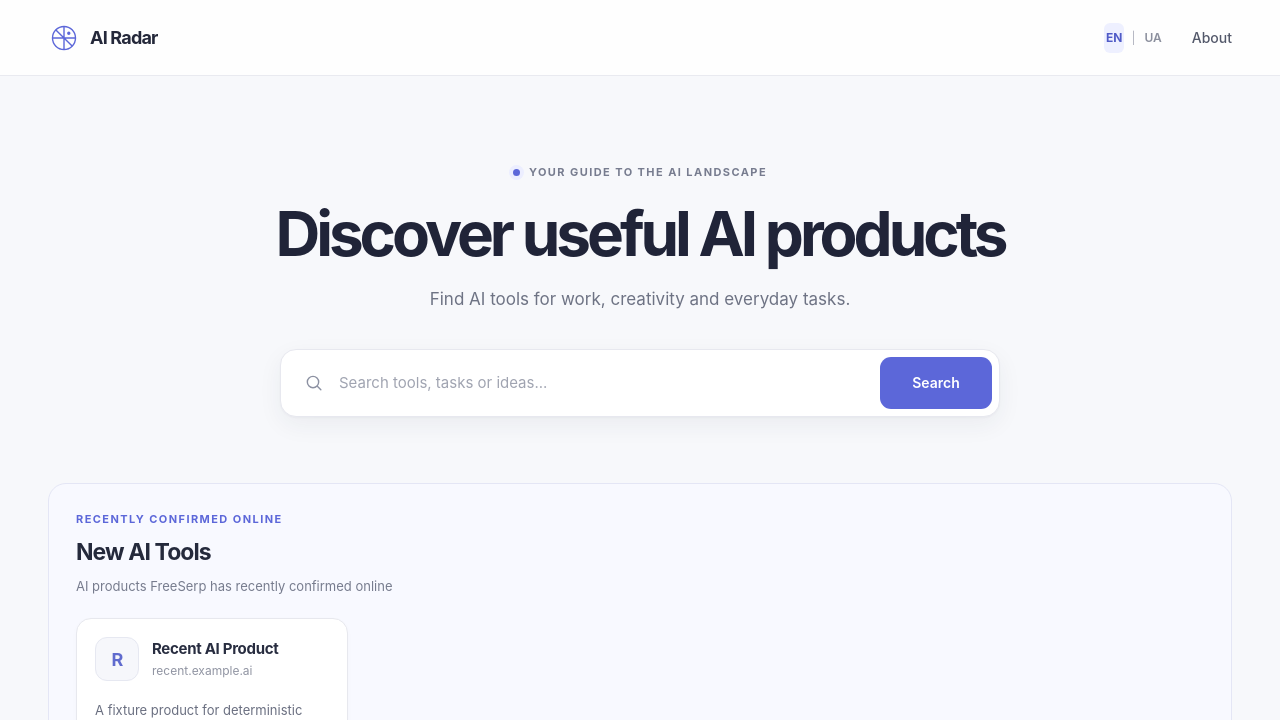
Test: AI Radar catalog › switches the interface between Ukrainian and English
The image size is (1280, 720).
Expected: the element with test id "language-selector" is shown, [1104,23,1164,53]
Click the button with test id "language-uk" at (1153, 38), box [1142,23,1163,53]
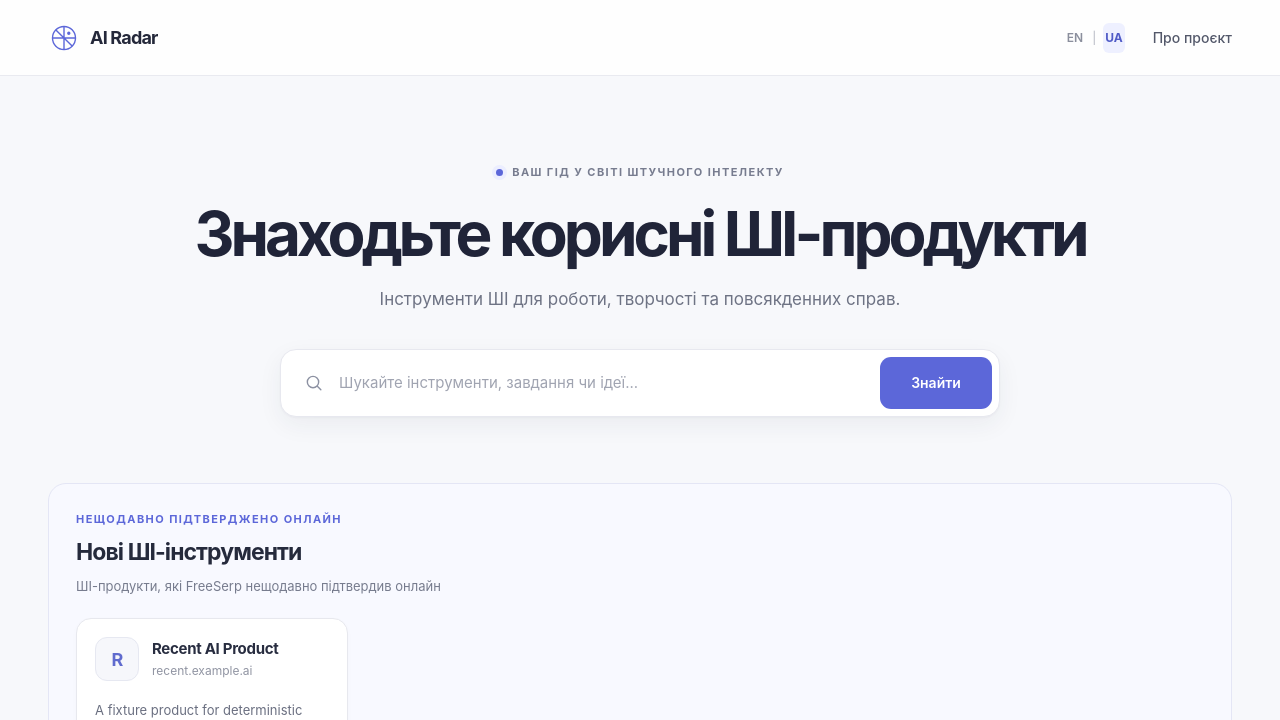
Expected: the heading with test id "hero-title" reads "Знаходьте корисні ШІ-продукти", [48,201,1232,268]
Click the button with test id "language-en" at (1075, 38), box [1065,23,1085,53]
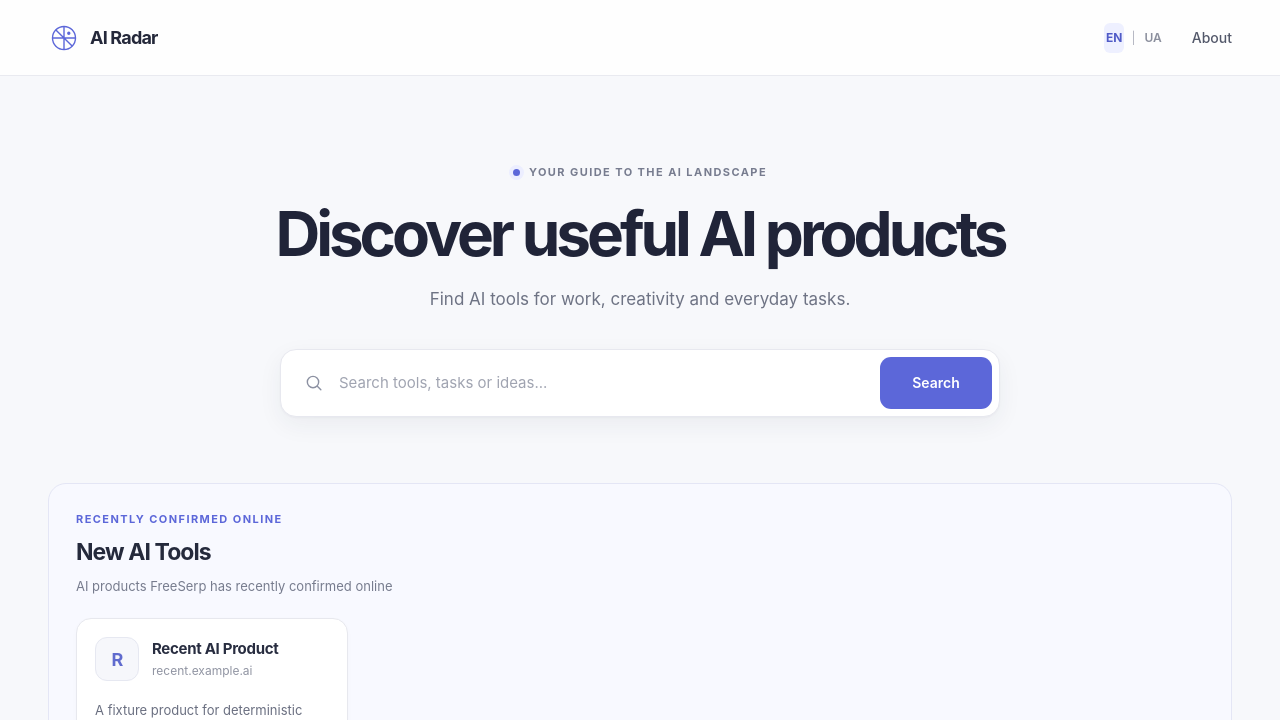
Expected: the heading with test id "hero-title" reads "Discover useful AI products", [48,201,1232,268]
